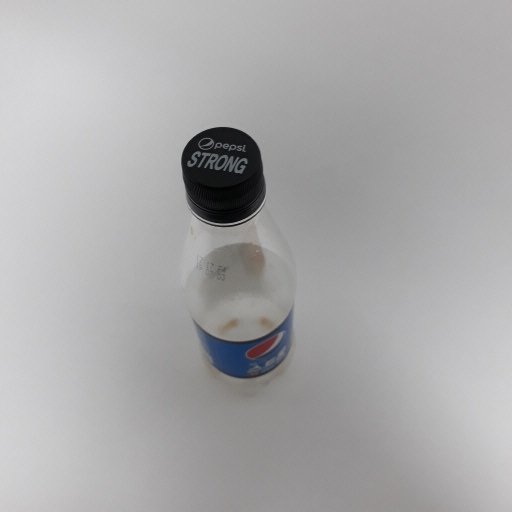Plastic_0: (173, 126, 304, 396)
